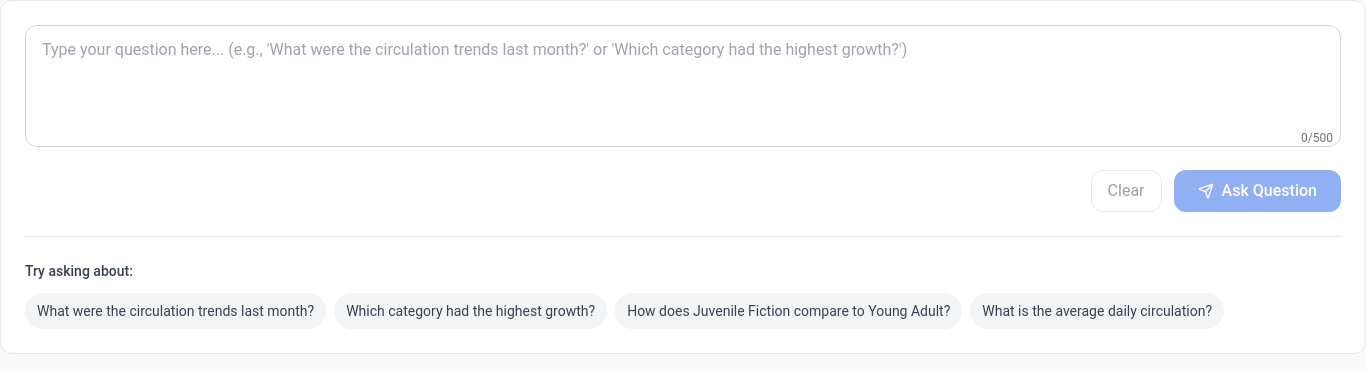
Test: QuestionsSection Component › shows the character count as user types
Expected: the text "0/500" is shown, [1301,130,1333,146]
Type "Hello" into the text box.
click(683, 86); type("Hello")  # box [25,25,1341,147]
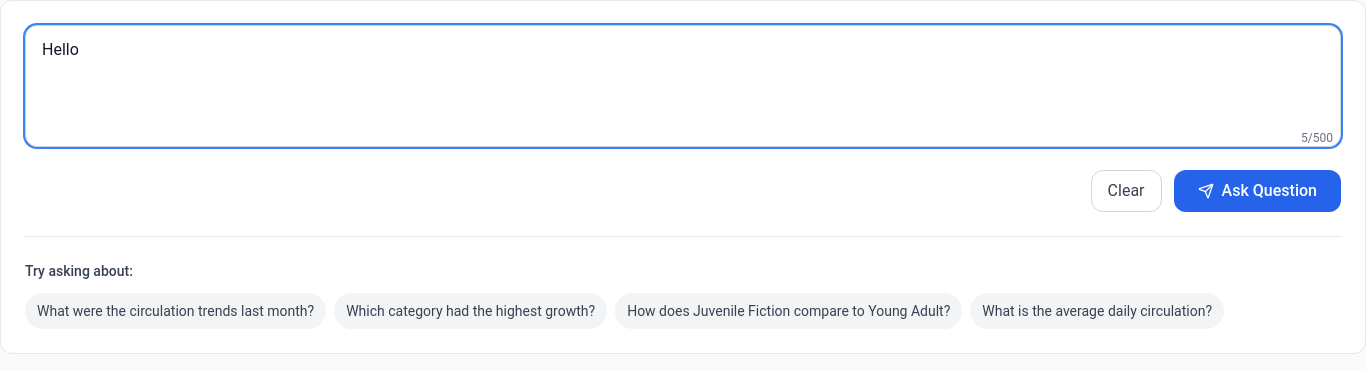
Now the text "5/500" is shown, box [1301,130,1333,146]
